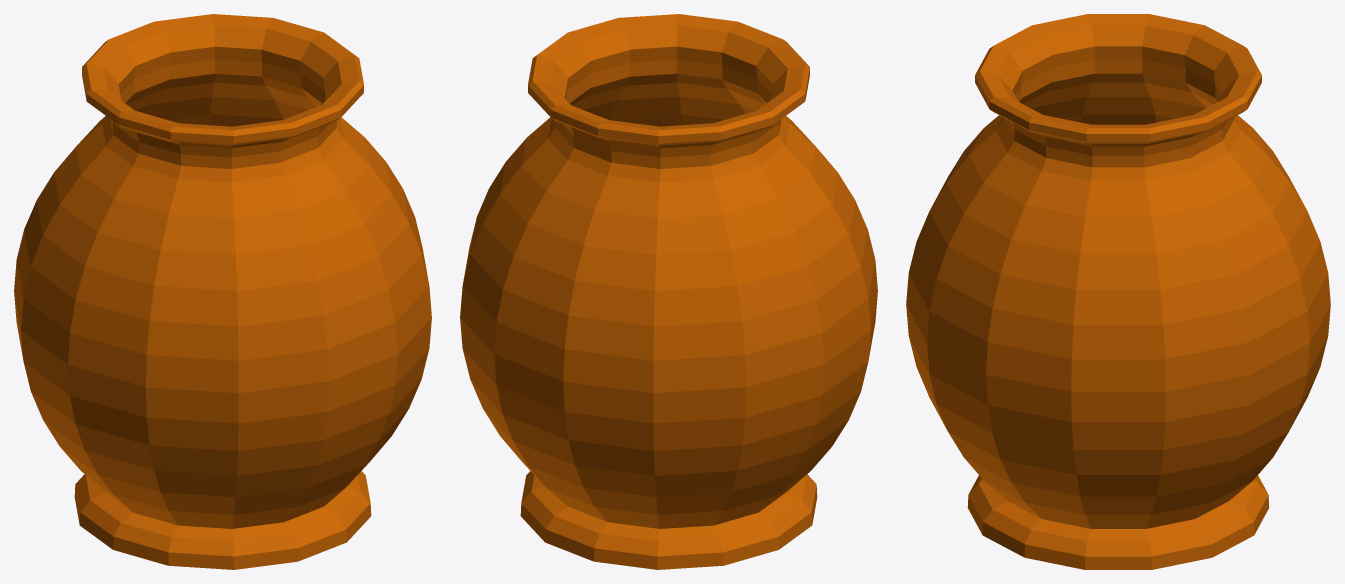
File: Urn_New_03.fbx
3 renders of one model, left to right at view 1: azimuth 30°, elevation 25°; view 2: azimuth 150°, elevation 25°; view 3: azimuth 270°, elevation 25°, orthographic.
Visible parts, largest first — view 1: Model; view 2: Model; view 3: Model.
Part boxes in pixels (x1,y1,x2,y2): Model: (14, 14, 431, 569); Model: (460, 14, 877, 569); Model: (906, 14, 1330, 569).
Bounding box in the file's own units: 73.75 × 85.83 × 75.64.
